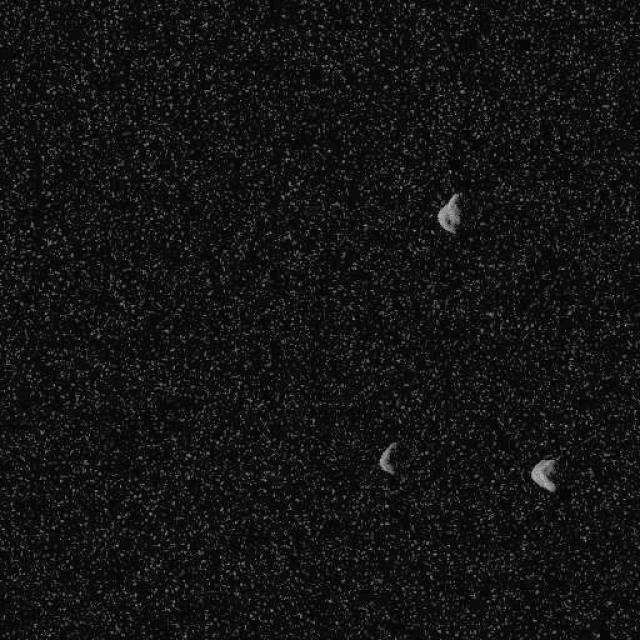D2: (437, 190, 462, 234), (530, 458, 558, 492), (378, 440, 398, 475)
